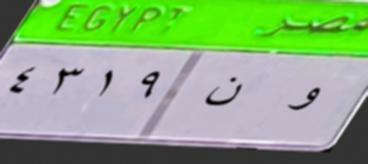1: (95, 66, 118, 102)
3: (49, 60, 86, 102)
4: (4, 60, 36, 98)
9: (136, 66, 162, 102)
noon: (200, 76, 245, 109)
waw: (287, 82, 320, 121)
